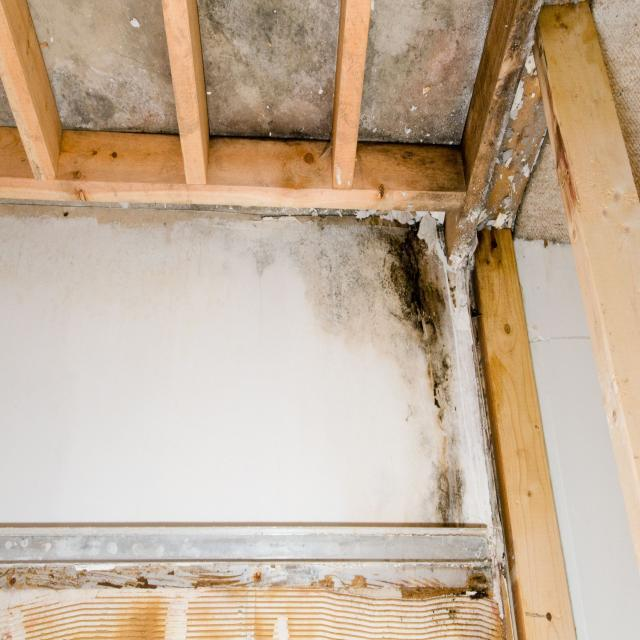wall_mold: (367, 201, 467, 527)
